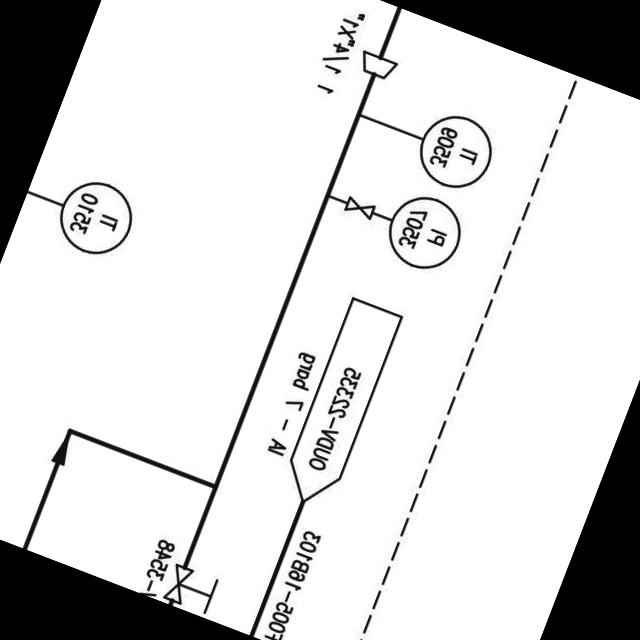GV: (340, 194, 380, 224)
HVWT: (157, 557, 225, 620)
SP: (352, 46, 401, 86)
